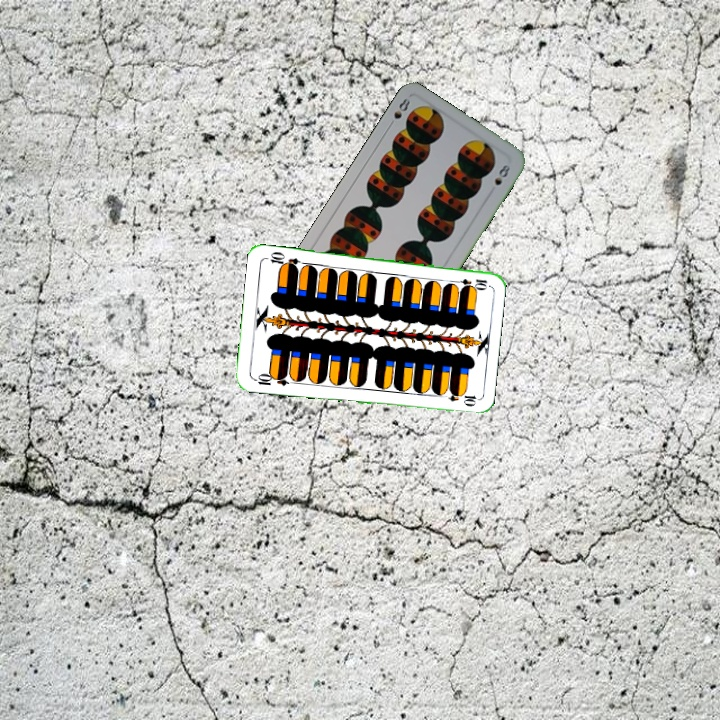E10: (250, 369, 290, 388), (449, 274, 490, 290)
S8: (384, 94, 413, 130)
